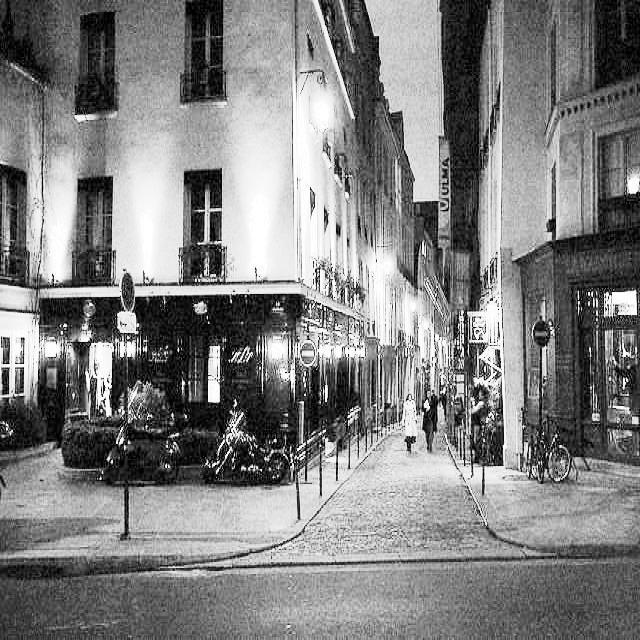Bicycle: (515, 416, 548, 483), (549, 413, 572, 484)
Motorcycle: (95, 379, 189, 490), (206, 393, 296, 485)
Person: (420, 388, 440, 458), (402, 391, 418, 458)
